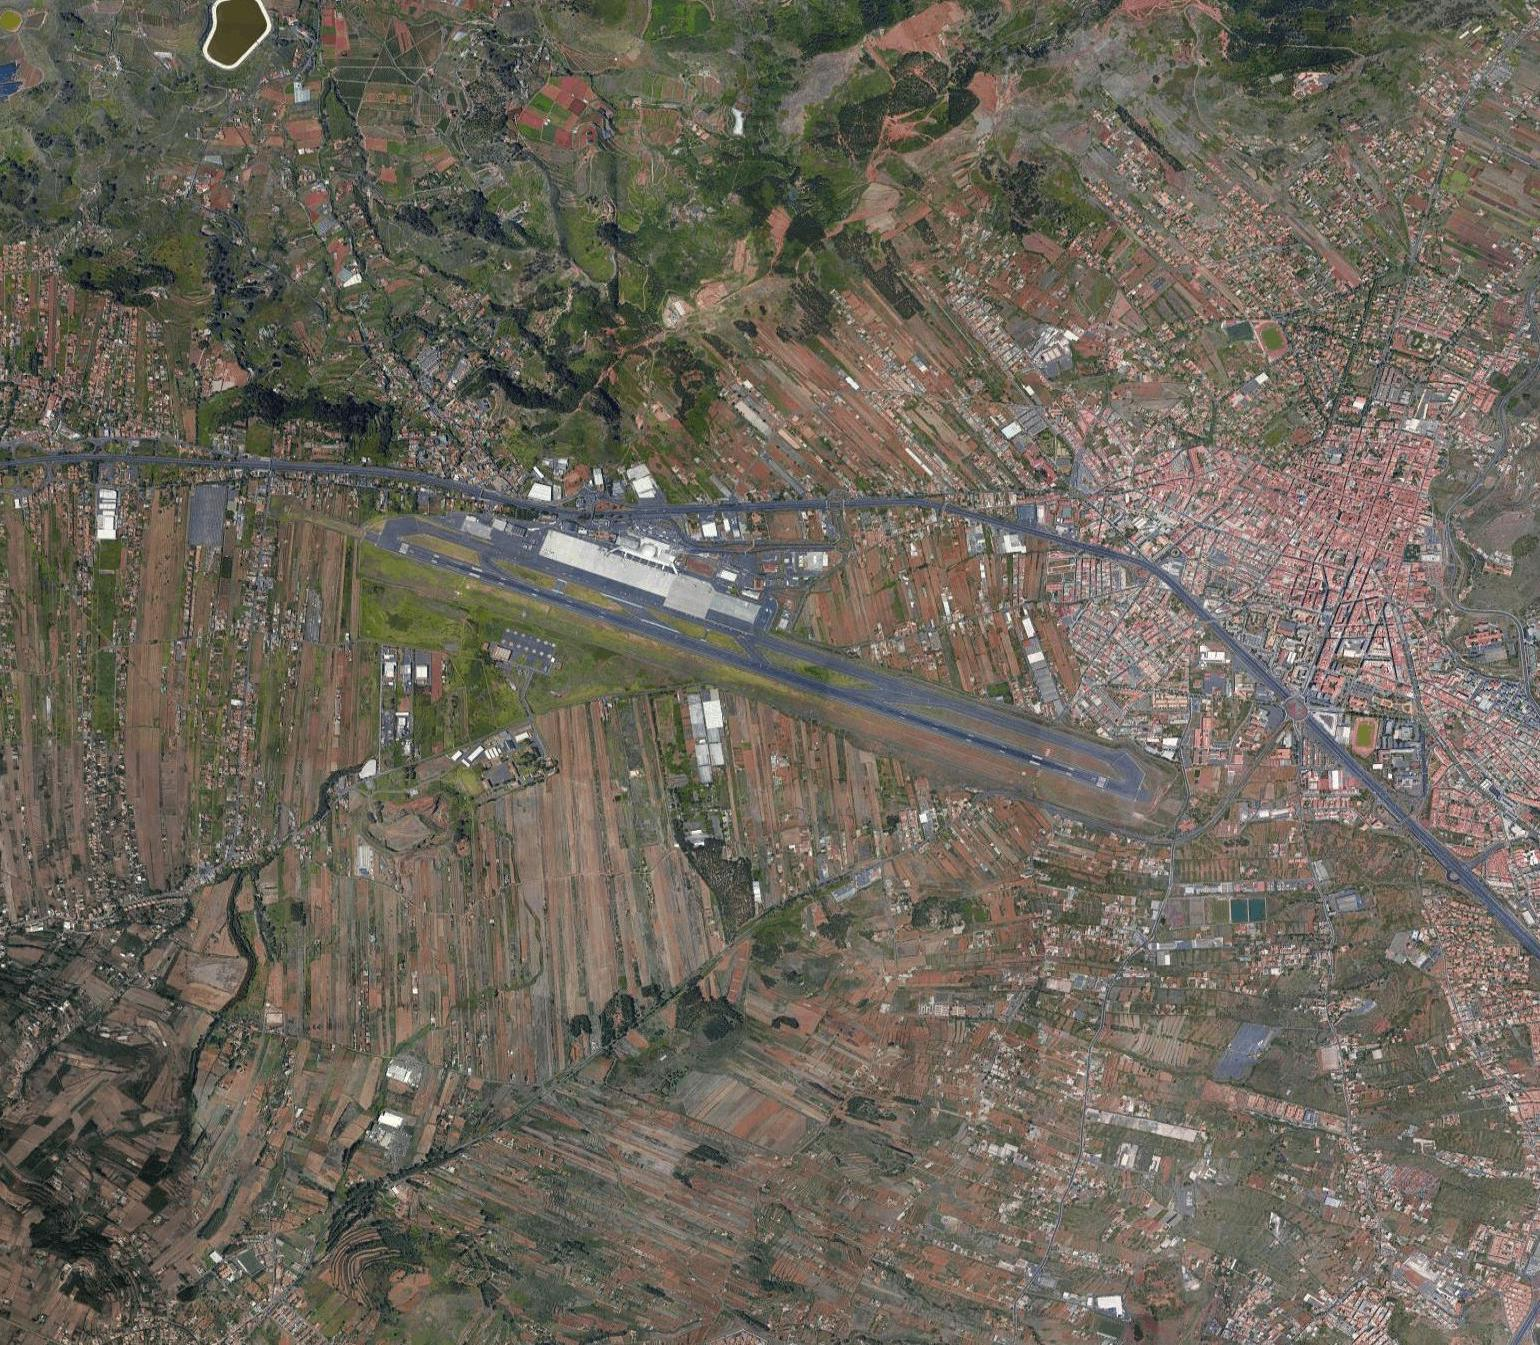airport: (361, 513, 1158, 808)
motorway: (1152, 564, 1299, 709), (1414, 821, 1540, 963), (917, 496, 1152, 564), (268, 462, 541, 521), (1299, 709, 1420, 832), (541, 499, 914, 521), (1, 454, 272, 471)
